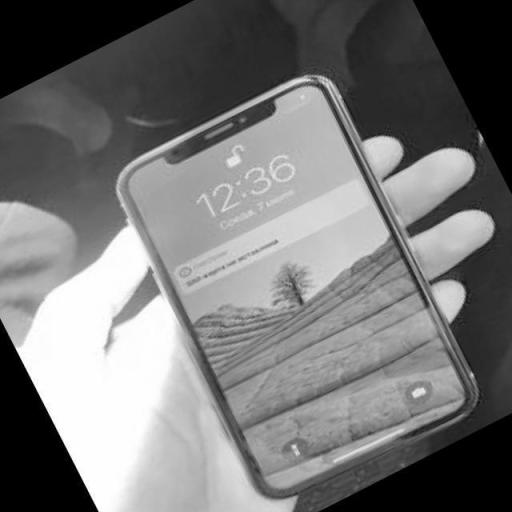phone: (105, 67, 484, 506)
